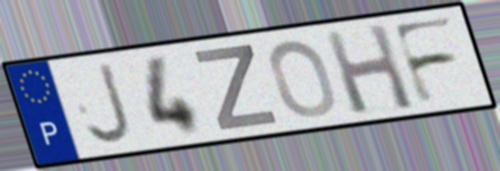4: (142, 52, 207, 137)
F: (387, 14, 463, 108)
H: (320, 20, 419, 117)
J: (83, 60, 136, 148)
O: (266, 38, 339, 120)
Z: (190, 42, 282, 133)
